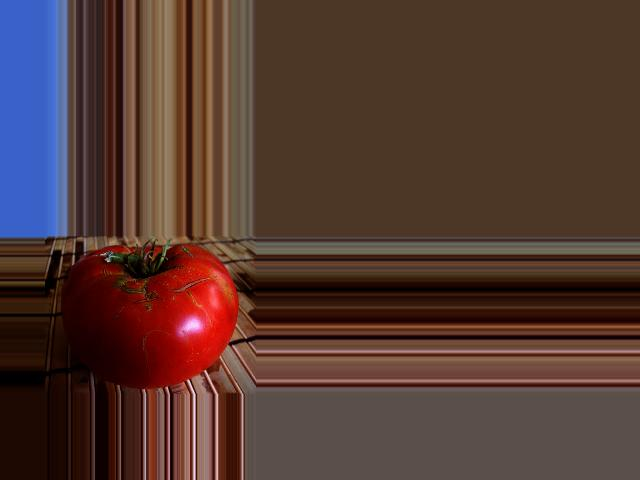tomato: (60, 244, 237, 386)
